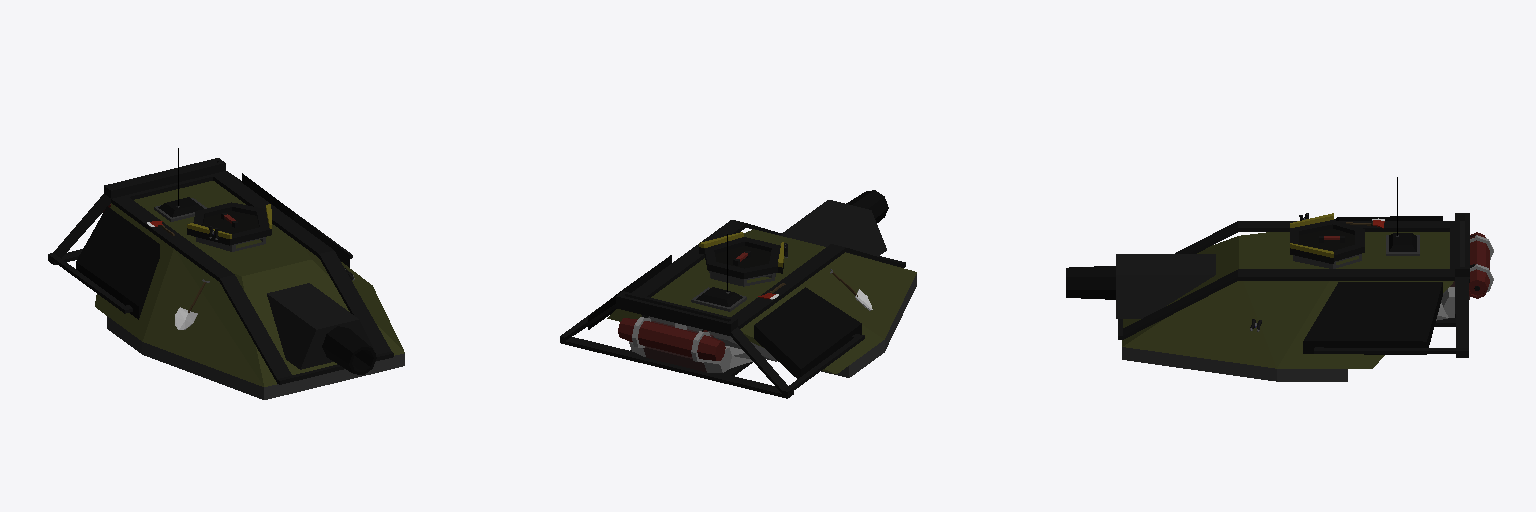
The model's file is Narushat-A_Turret.obj.
3 views of the same model, side by side, from view 1: azimuth 30°, elevation 25°; view 2: azimuth 150°, elevation 25°; view 3: azimuth 270°, elevation 25° (orthographic).
Parts seen in each view (by area): view 1: Cube.002_Cube.003; view 2: Cube.002_Cube.003, Cylinder.026_Cylinder.027, Cube.001; view 3: Cube.002_Cube.003, Cylinder.026_Cylinder.027.
Part boxes in pixels (bbox=[...]): Cube.002_Cube.003: bbox=[48, 148, 404, 399]; Cube.002_Cube.003: bbox=[560, 190, 916, 398]; Cylinder.026_Cylinder.027: bbox=[618, 315, 725, 362]; Cube.001: bbox=[629, 321, 752, 372]; Cube.002_Cube.003: bbox=[1066, 177, 1469, 381]; Cylinder.026_Cylinder.027: bbox=[1469, 232, 1493, 298].
Bounding box in the file's own units: 0.905 × 0.5221 × 1.46.